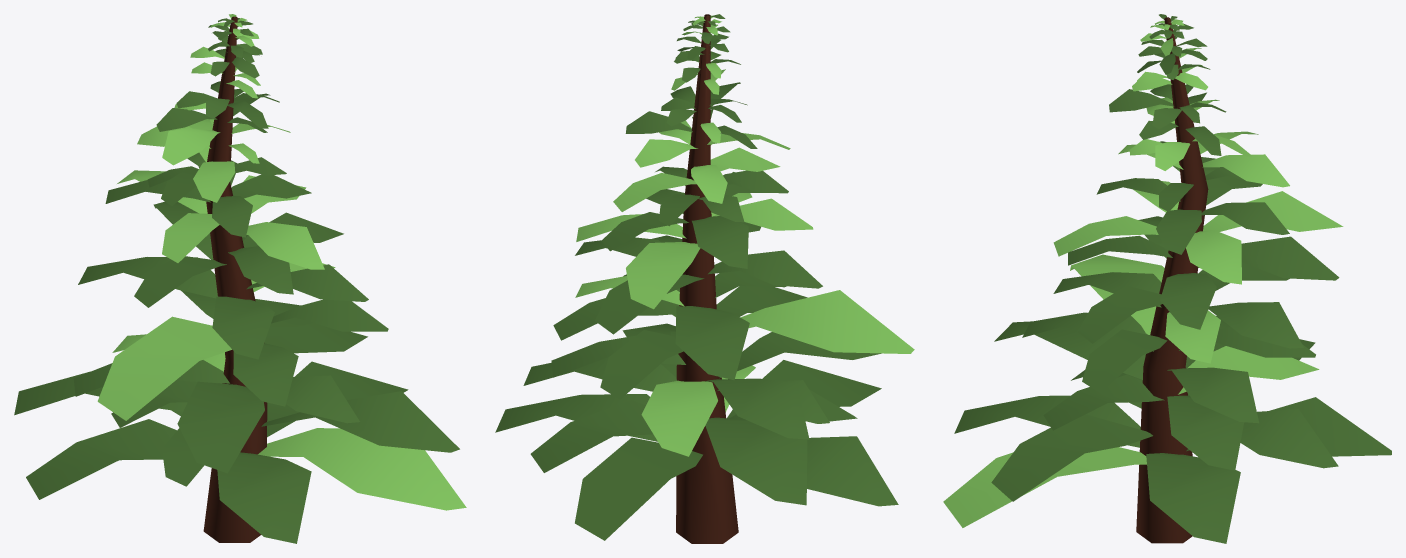
The model's file is tree-low-poly-3.glb.
The picture shows the model from 3 angles, left to right: view 1: azimuth 30°, elevation 25°; view 2: azimuth 150°, elevation 25°; view 3: azimuth 270°, elevation 25°; orthographic projection.
Visible parts, largest first — view 1: Plane.015, Trunk, Plane.016, Plane.002, Plane.012, Plane.003, Plane.005, Plane.023, Plane.019, Plane.031, Plane.009, Plane.018 (+23 smaller); view 2: Trunk, Plane, Plane.016, Plane.007, Plane.003, Plane.011, Plane.020, Plane.013, Plane.004, Plane.028, Plane.017, Plane.001 (+26 smaller); view 3: Trunk, Plane.001, Plane.005, Plane.015, Plane.008, Plane.004, Plane.014, Plane, Plane.002, Plane.024, Plane.021, Plane.018 (+24 smaller).
Part boxes in pixels (x1=…): Plane.015: x1=258, y1=428, x2=466, y2=510; Trunk: x1=203, y1=16, x2=267, y2=542; Plane.016: x1=97, y1=316, x2=231, y2=420; Plane.002: x1=217, y1=452, x2=311, y2=543; Plane.012: x1=177, y1=381, x2=264, y2=473; Plane.003: x1=26, y1=419, x2=176, y2=499; Plane.005: x1=261, y1=391, x2=459, y2=452; Plane.023: x1=212, y1=296, x2=274, y2=359; Plane.019: x1=233, y1=343, x2=298, y2=406; Plane.031: x1=246, y1=222, x2=324, y2=269; Plane.009: x1=286, y1=375, x2=359, y2=423; Plane.018: x1=271, y1=299, x2=388, y2=331; Trunk: x1=676, y1=14, x2=738, y2=543; Plane: x1=575, y1=437, x2=702, y2=540; Plane.016: x1=740, y1=290, x2=914, y2=353; Plane.007: x1=705, y1=417, x2=807, y2=505; Plane.003: x1=807, y1=436, x2=898, y2=506; Plane.011: x1=641, y1=380, x2=717, y2=456; Plane.020: x1=675, y1=306, x2=749, y2=380; Plane.013: x1=705, y1=378, x2=809, y2=439; Plane.004: x1=530, y1=400, x2=652, y2=472; Plane.028: x1=626, y1=242, x2=700, y2=309; Plane.017: x1=600, y1=330, x2=683, y2=399; Plane.001: x1=495, y1=394, x2=657, y2=441; Trunk: x1=1136, y1=17, x2=1208, y2=543; Plane.001: x1=1146, y1=453, x2=1240, y2=543; Plane.005: x1=991, y1=414, x2=1152, y2=501; Plane.015: x1=943, y1=447, x2=1146, y2=527; Plane.008: x1=1167, y1=395, x2=1244, y2=470; Plane.004: x1=1240, y1=409, x2=1338, y2=468; Plane.014: x1=1167, y1=367, x2=1259, y2=423; Plane: x1=1186, y1=397, x2=1391, y2=456; Plane.002: x1=954, y1=395, x2=1140, y2=447; Plane.024: x1=1198, y1=236, x2=1339, y2=280; Plane.021: x1=1208, y1=302, x2=1303, y2=348; Plane.018: x1=1082, y1=329, x2=1167, y2=392.
Bounding box in the file's own units: 11.16 × 14.42 × 11.42.
